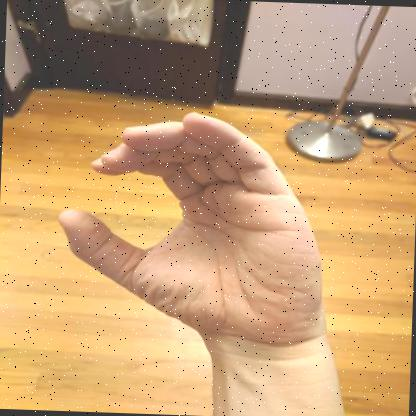C: (58, 112, 329, 345)
